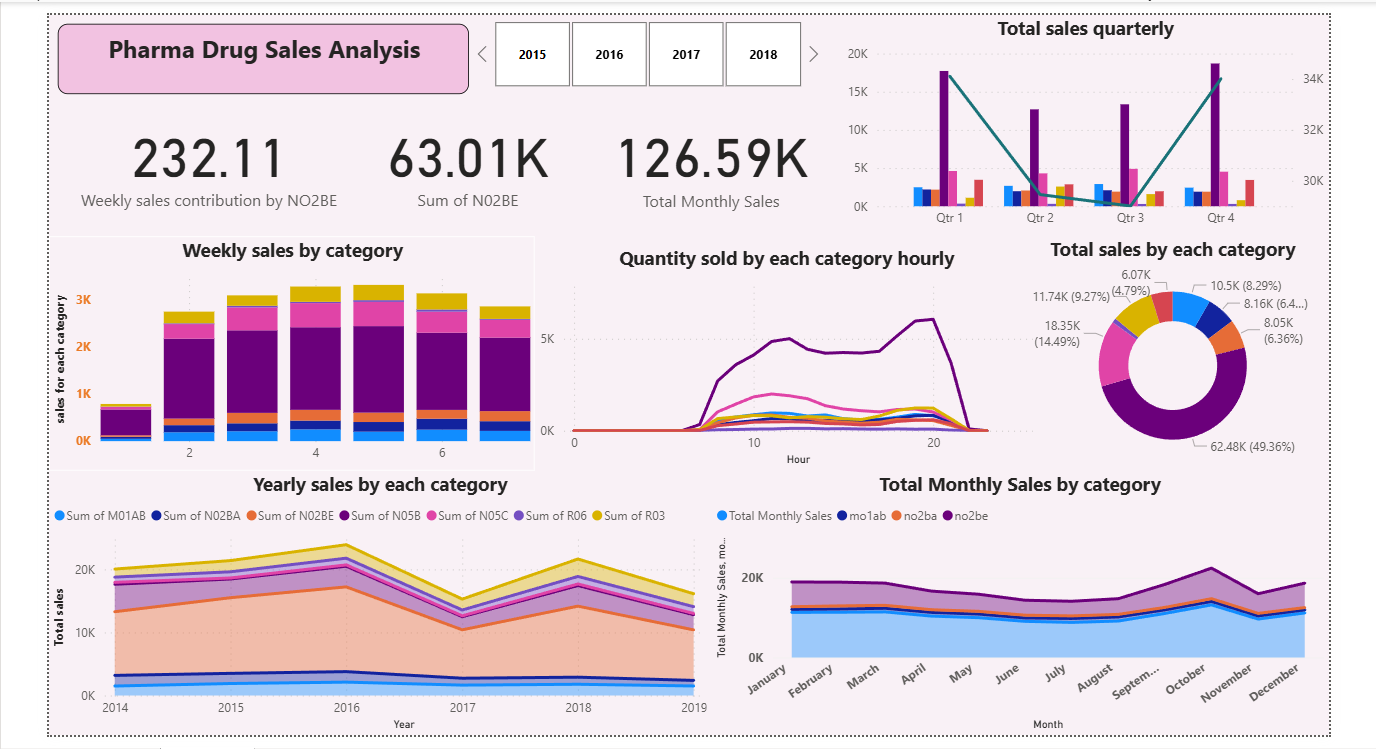

The dashboard page shown, as its layout file describes it:
{"tool":"powerbi","page":{"name":"Page 1","canvas":[1280,720],"ordinal":0},"visuals":[{"type":"textbox","box":[8.6,8.6,411.4,70],"z":0},{"type":"columnChart","title":"Weekly sales by category","fields":{"Category":["salesweekly.Week NUM"],"Y":["Sum(salesweekly.M01AB)","Sum(salesweekly.M01AE)","Sum(salesweekly.N02BA)","Sum(salesweekly.N02BE)","Sum(salesweekly.N05B)","Sum(salesweekly.N05C)","Sum(salesweekly.R03)"]},"box":[0,221.4,485.7,234.3],"z":1000},{"type":"stackedAreaChart","title":"Total Monthly Sales by category","fields":{"Category":["salesmonthly.datum.Variation.Date Hierarchy.Month"],"Y":["salesmonthly.Total Monthly Sales","salesmonthly.mo1ab","salesmonthly.no2ba","salesmonthly.no2be"]},"box":[662.9,455.7,617.1,264.3],"z":2000},{"type":"lineChart","title":"Quantity sold by each category hourly","fields":{"Category":["saleshourly.Hour"],"Y":["Sum(saleshourly.M01AB)","Sum(saleshourly.M01AE)","Sum(saleshourly.N02BA)","Sum(saleshourly.N02BE)","Sum(saleshourly.N05B)","Sum(saleshourly.N05C)","Sum(saleshourly.R03)","Sum(saleshourly.R06)"]},"box":[485.7,230,502.9,225.7],"z":3000},{"type":"donutChart","title":"Total sales by each category","fields":{"Y":["Sum(salesmonthly.M01AB)","Sum(salesmonthly.M01AE)","Sum(salesmonthly.N02BA)","Sum(salesmonthly.N02BE)","Sum(salesmonthly.N05B)","Sum(salesmonthly.N05C)","Sum(salesmonthly.R03)","Sum(salesmonthly.R06)"]},"box":[967.1,221.4,312.9,234.3],"z":4000},{"type":"stackedAreaChart","title":"Yearly sales by each category","fields":{"Category":["salesmonthly.datum.Variation.Date Hierarchy.Year"],"Y":["Sum(salesmonthly.M01AB)","Sum(salesmonthly.N02BA)","Sum(salesmonthly.N02BE)","Sum(salesmonthly.N05B)","Sum(salesmonthly.N05C)","Sum(salesmonthly.R06)","Sum(salesmonthly.R03)"]},"box":[0,455.7,662.9,264.3],"z":5000},{"type":"lineClusteredColumnComboChart","title":"Total sales quarterly","fields":{"Category":["salesmonthly.datum.Variation.Date Hierarchy.Quarter"],"Y":["Sum(salesmonthly.M01AB)","Sum(salesmonthly.M01AE)","Sum(salesmonthly.N02BA)","Sum(salesmonthly.N02BE)","Sum(salesmonthly.N05B)","Sum(salesmonthly.N05C)","Sum(salesmonthly.R06)","Sum(salesmonthly.R03)"],"Y2":["salesmonthly.Total Monthly Sales"]},"box":[794.3,0,485.7,221.4],"z":5001},{"type":"card","fields":{"Values":["salesweekly.Measure"]},"box":[18.6,78.6,282.9,135.7],"z":5002},{"type":"card","fields":{"Values":["Sum(salesweekly.N02BE)"]},"box":[291.4,78.6,255.7,135.7],"z":5003},{"type":"card","fields":{"Values":["salesmonthly.Total Monthly Sales"]},"box":[548.6,78.6,227.1,137.1],"z":5004},{"type":"slicer","fields":{"Values":["salesmonthly.datum.Variation.Date Hierarchy.Year"]},"box":[420,0,355.7,78.6],"z":5005}]}

Visuals, with their boxes on the page's 1280x720 design canvas (x1, y1, x2, y2). These are canvas units, not pixel positions in the 1376x749 screenshot, which may show the page scaled, cropped or inside an application window:
textbox: x1=9 y1=9 x2=420 y2=79
"Weekly sales by category" columnChart: x1=0 y1=221 x2=486 y2=456
"Total Monthly Sales by category" stackedAreaChart: x1=663 y1=456 x2=1280 y2=720
"Quantity sold by each category hourly" lineChart: x1=486 y1=230 x2=989 y2=456
"Total sales by each category" donutChart: x1=967 y1=221 x2=1280 y2=456
"Yearly sales by each category" stackedAreaChart: x1=0 y1=456 x2=663 y2=720
"Total sales quarterly" lineClusteredColumnComboChart: x1=794 y1=0 x2=1280 y2=221
card - salesweekly.Measure: x1=19 y1=79 x2=302 y2=214
card - Sum(salesweekly.N02BE): x1=291 y1=79 x2=547 y2=214
card - salesmonthly.Total Monthly Sales: x1=549 y1=79 x2=776 y2=216
slicer - salesmonthly.datum.Variation.Date Hierarchy.Year: x1=420 y1=0 x2=776 y2=79
